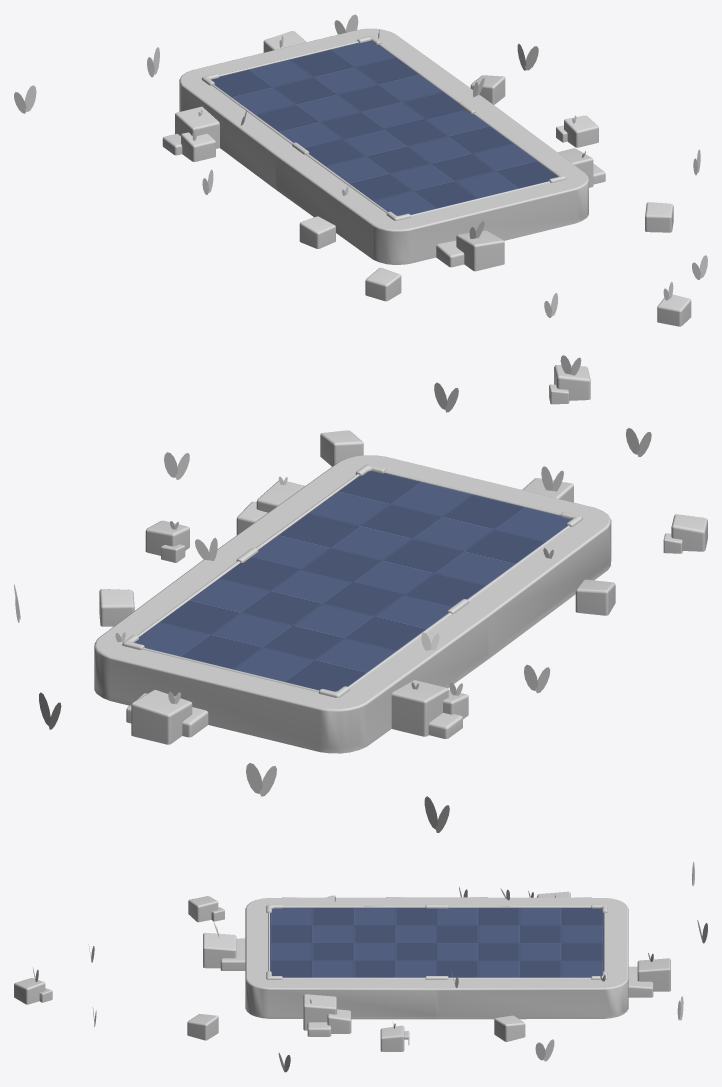
Rendered from Arena.fbx.
3 renders of one model, top to bottom at view 1: azimuth 30°, elevation 25°; view 2: azimuth 150°, elevation 25°; view 3: azimuth 270°, elevation 25°, orthographic. The views are drawn at different scales.
Visible parts, largest first — view 1: Arena; view 2: Arena; view 3: Arena.
Part boxes in pixels (x1,y1,x2,y2): Arena: (14,14,707,326); Arena: (14,355,707,832); Arena: (14,862,707,1072).
Size of what is drawn, in the model's own units: 27.72 by 3.27 by 41.58.
